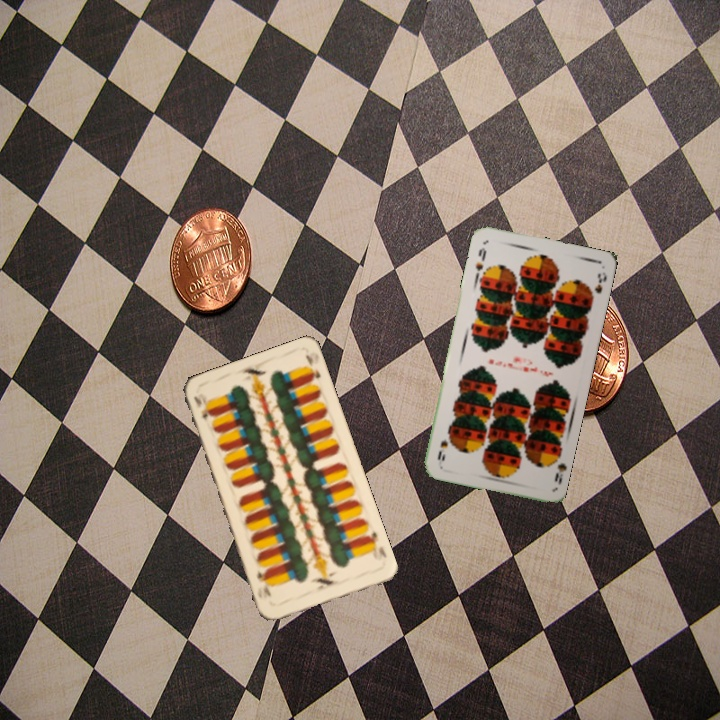E10: (362, 528, 389, 560), (190, 392, 211, 423)
S9: (548, 449, 568, 487), (471, 243, 489, 274)
